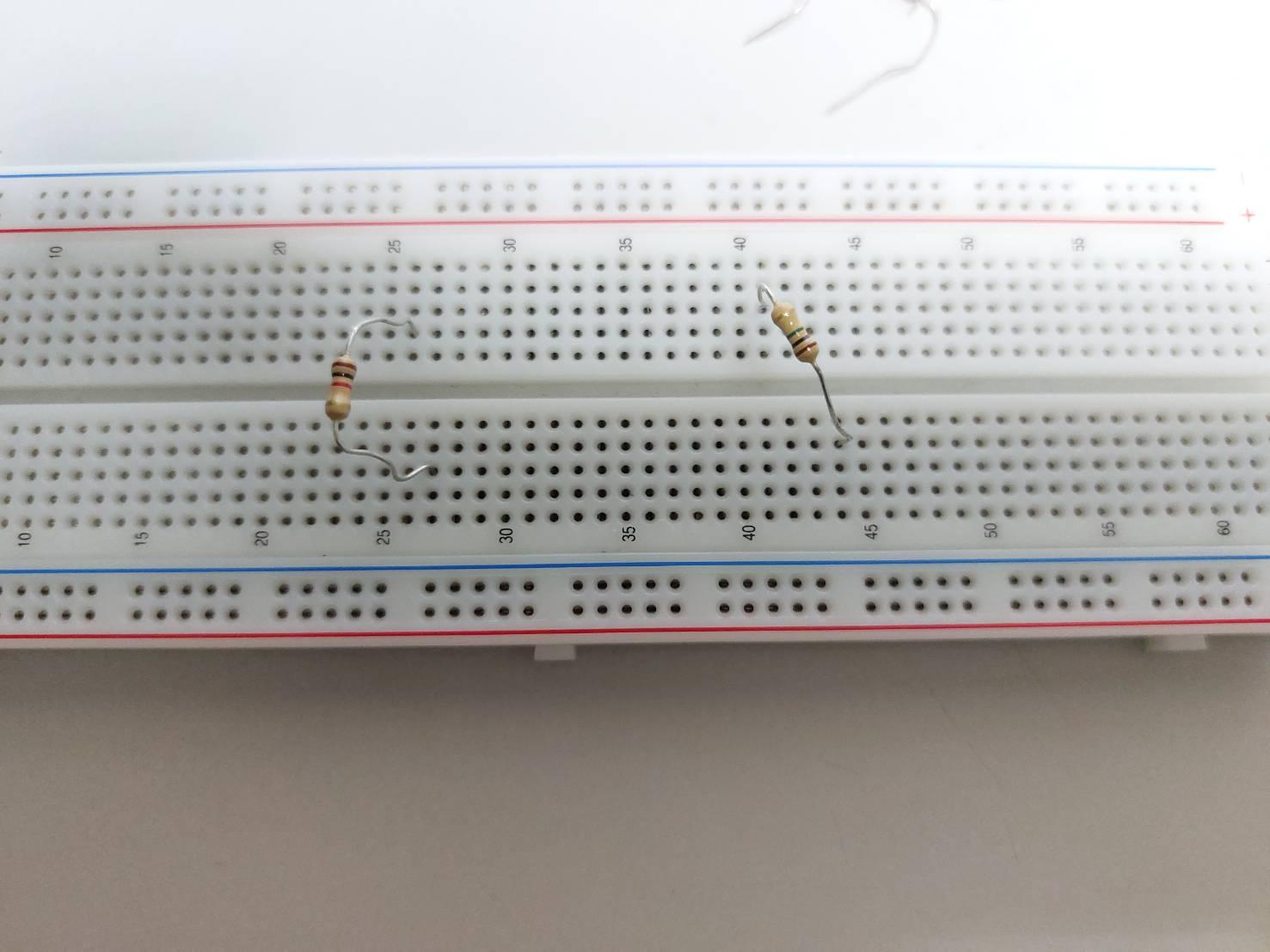resistor: (770, 302, 821, 364), (327, 351, 359, 426)
